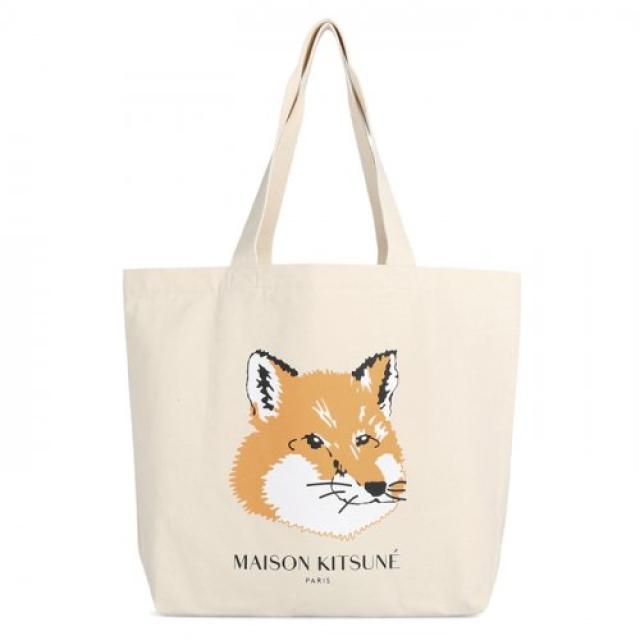ecobag: (99, 21, 535, 624)
